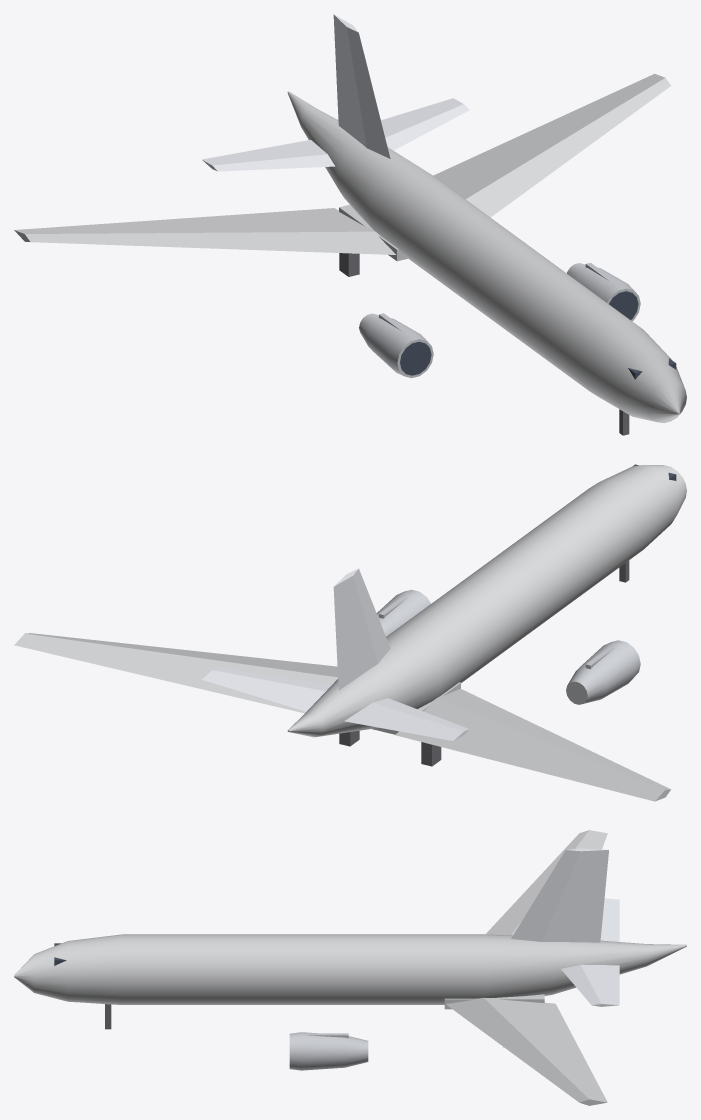
File: generic.glb
3 renders of one model, top to bottom at view 1: azimuth 30°, elevation 25°; view 2: azimuth 150°, elevation 25°; view 3: azimuth 270°, elevation 25°, orthographic. The views are drawn at different scales.
Visible parts, largest first — view 1: aircraft; view 2: aircraft; view 3: aircraft.
Part boxes in pixels (x1,y1,x2,y2): aircraft: [14, 14, 686, 435]; aircraft: [14, 464, 686, 801]; aircraft: [14, 830, 686, 1105].
Bounding box in the file's own units: 35.6 × 10.97 × 37.6.
